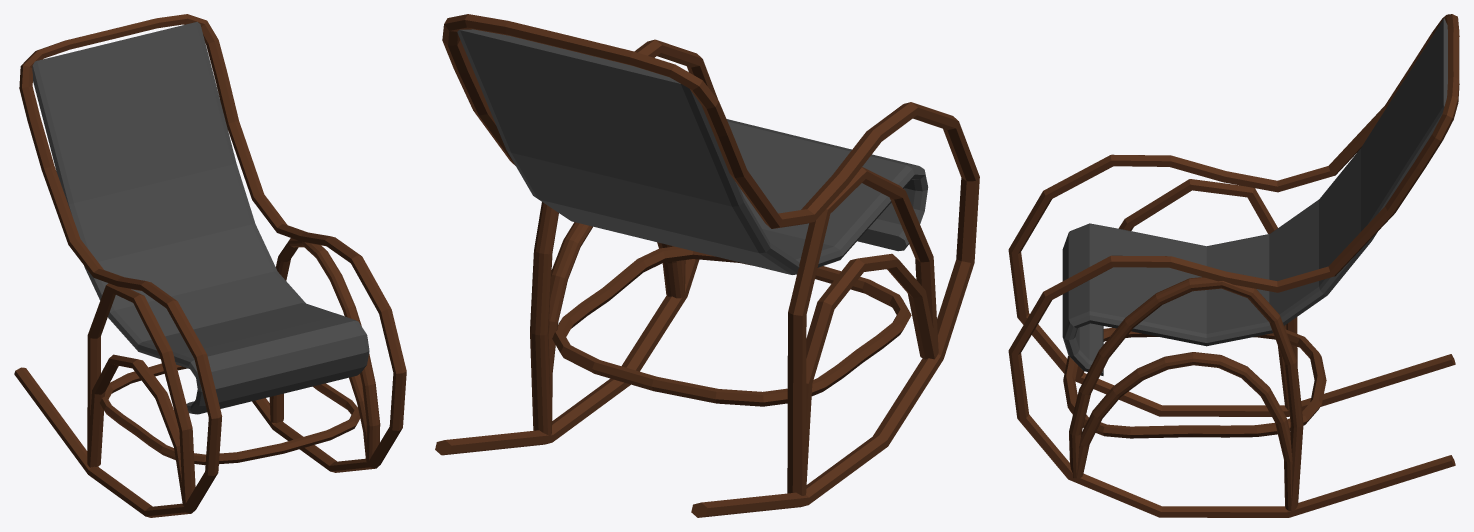
Rendered from Chair.fbx.
3 views of the same model, side by side, from view 1: azimuth 30°, elevation 25°; view 2: azimuth 150°, elevation 25°; view 3: azimuth 270°, elevation 25° (orthographic). The views are drawn at different scales.
Parts seen in each view (by area): view 1: BezierCurve; view 2: BezierCurve; view 3: BezierCurve.
Part boxes in pixels (bbox=[...]): BezierCurve: bbox=[14, 14, 406, 517]; BezierCurve: bbox=[435, 14, 979, 517]; BezierCurve: bbox=[1008, 14, 1459, 517].
Bounding box in the file's own units: 62.57 × 112 × 110.
